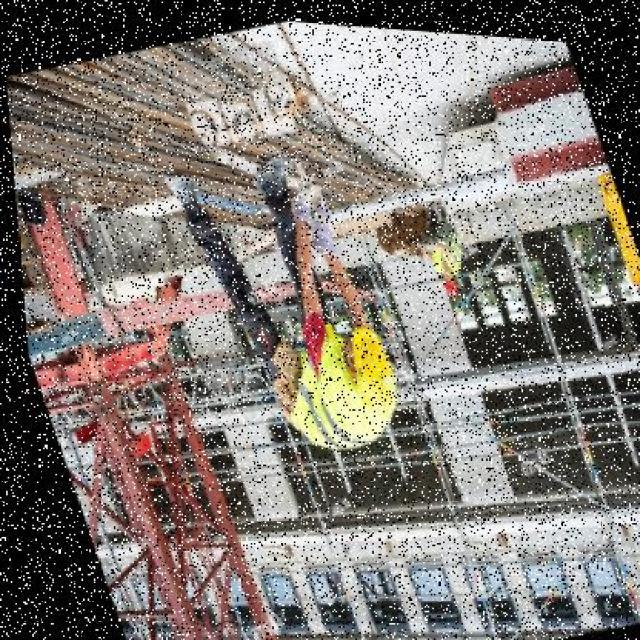helmet: (325, 308, 401, 418)
vest: (258, 323, 376, 459)
